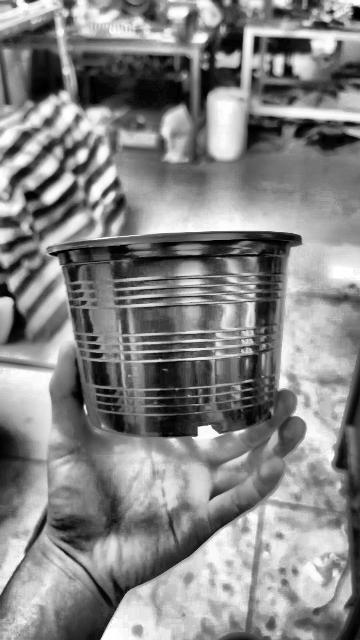pot: (49, 231, 300, 437)
